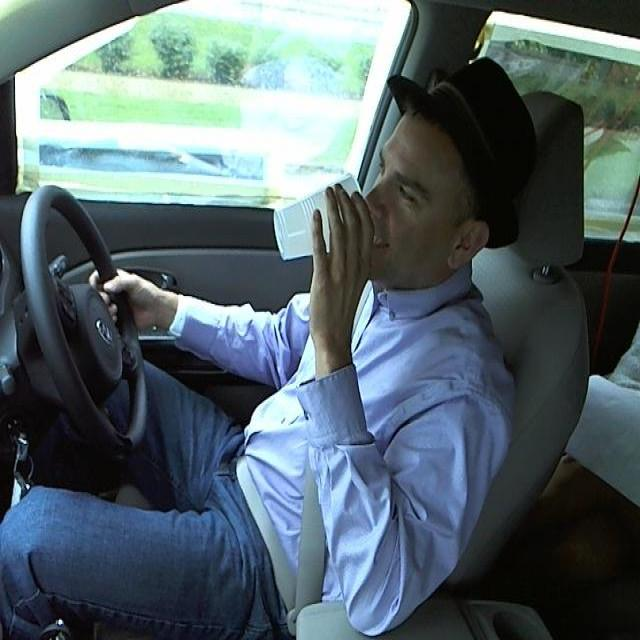drinking: (270, 171, 372, 268)
